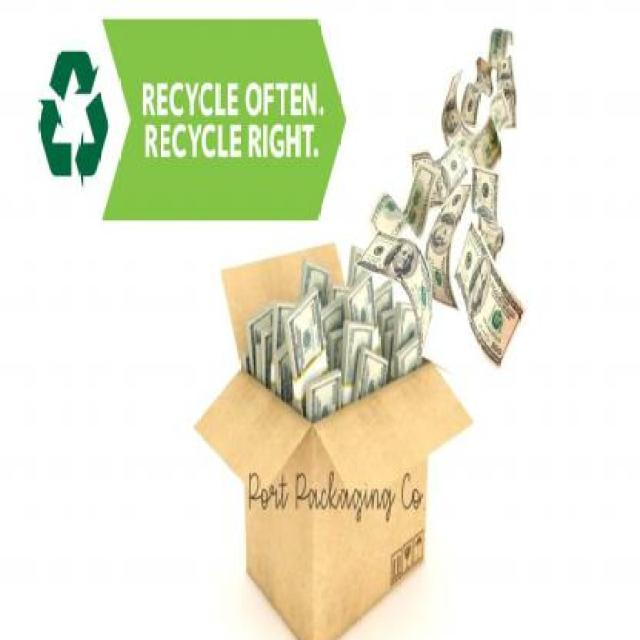box: (194, 249, 471, 640)
